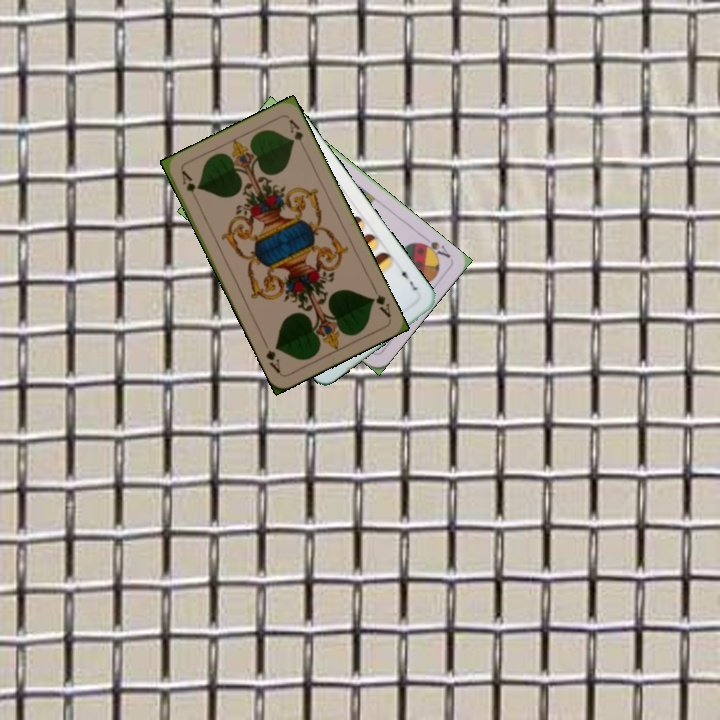E7: (396, 263, 420, 293)
GA: (366, 282, 394, 320), (177, 166, 201, 205)
SA: (415, 237, 453, 261)
